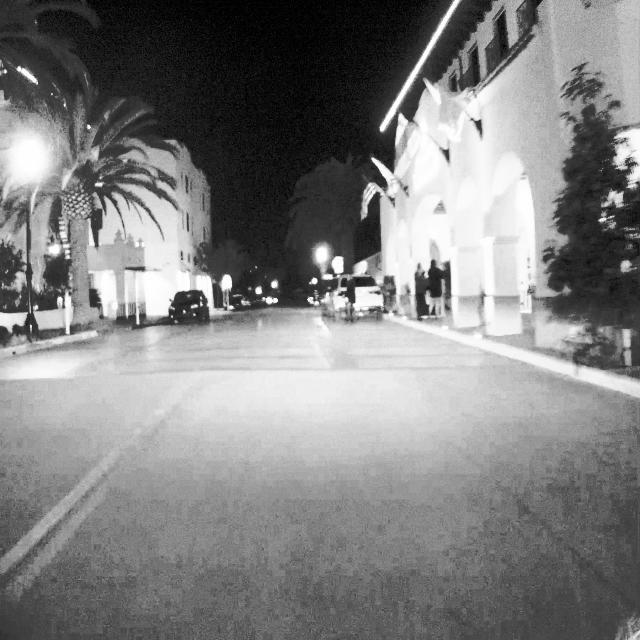Tree: (547, 65, 639, 371)
